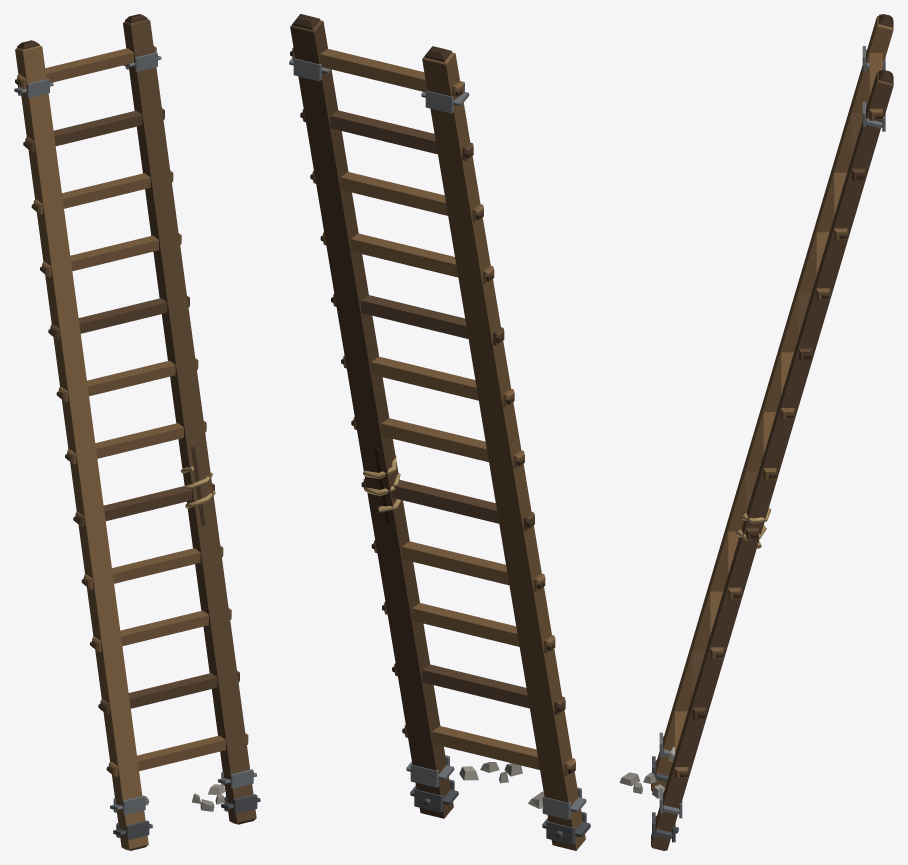
File: SM_LPD_Struct_LadderTimber_01.fbx
3 views of the same model, side by side, from view 1: azimuth 30°, elevation 25°; view 2: azimuth 150°, elevation 25°; view 3: azimuth 270°, elevation 25° (orthographic). The views are drawn at different scales.
Visible parts, largest first — view 1: SM_LPD_Struct_LadderTimber_01; view 2: SM_LPD_Struct_LadderTimber_01; view 3: SM_LPD_Struct_LadderTimber_01.
Part boxes in pixels (bbox=[...]): SM_LPD_Struct_LadderTimber_01: bbox=[14, 14, 260, 850]; SM_LPD_Struct_LadderTimber_01: bbox=[289, 14, 590, 850]; SM_LPD_Struct_LadderTimber_01: bbox=[619, 14, 893, 850].
Size of the model in its own units: 0.7535 by 3.75 by 1.2.
